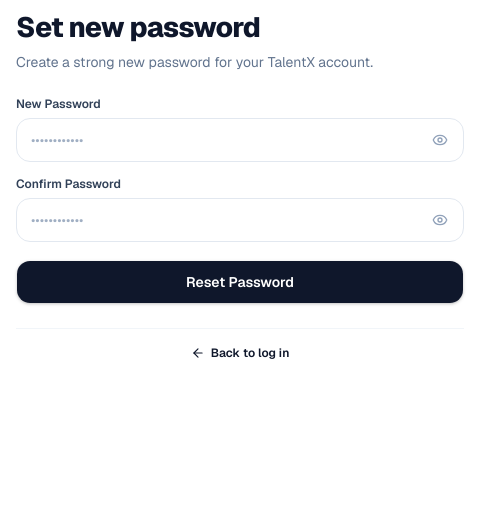
Scenario: ResetPasswordForm › displays expired token error alert and request new link button when token is invalid or expired
Type "StrongPass123!" into the password field labelled "New Password". click: (240, 140)
box: [16,118,464,162]
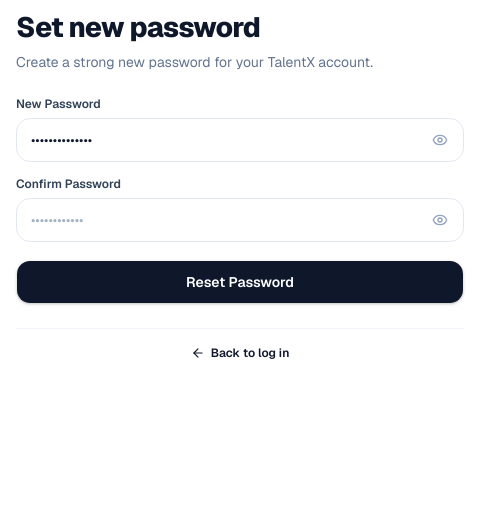
Type "StrongPass123!" into the password field labelled "Confirm Password". click: (240, 220)
box: [16,198,464,242]
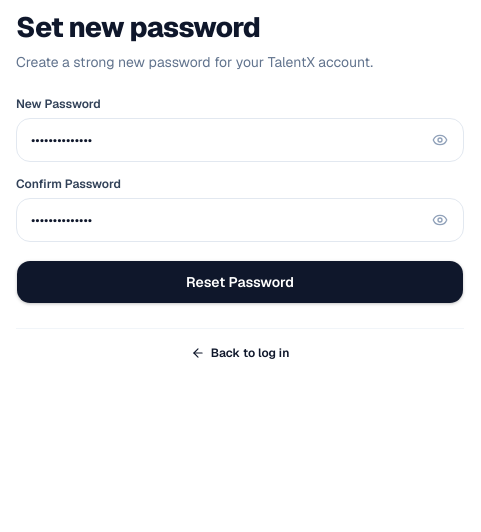
Click the button "Reset Password". click: (240, 282)
box: [16,260,464,304]
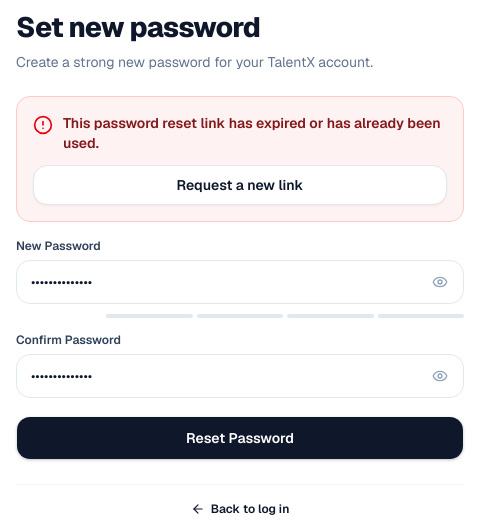
Now the text "This password reset link has expired or has already been used." is shown, box [63,113,447,153]
Now the link "Request a new link" is shown, box [33,165,447,205]
